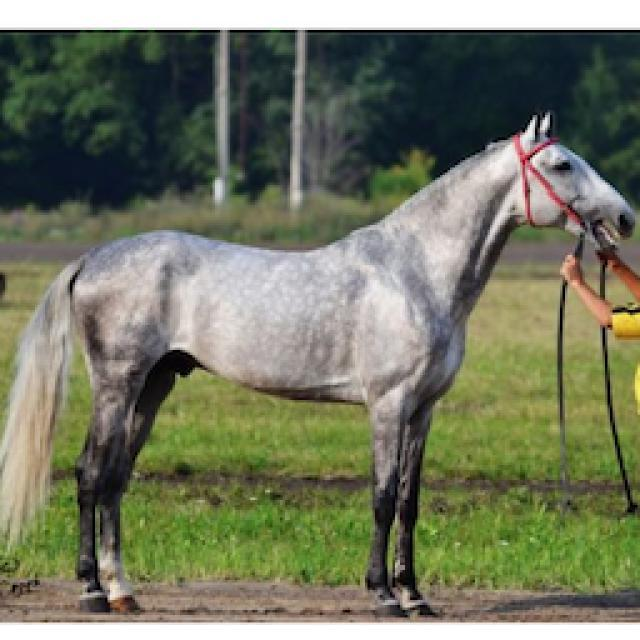Horse: (0, 105, 638, 618)
